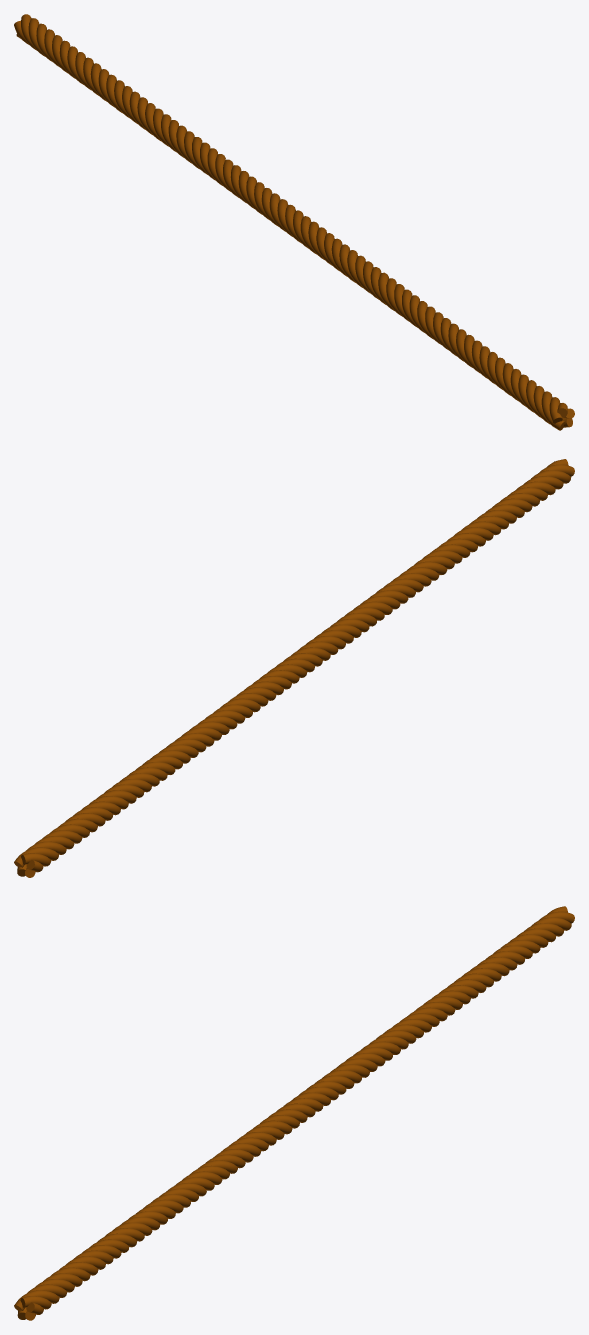
The model's file is Rope_01.fbx.
The picture shows the model from 3 angles, top to bottom: view 1: azimuth 30°, elevation 25°; view 2: azimuth 150°, elevation 25°; view 3: azimuth 330°, elevation 25°; orthographic projection.
Visible parts, largest first — view 1: Reep_05_1; view 2: Reep_05_1; view 3: Reep_05_1.
Boxes of the visible parts, left/top/right/bottom form: Reep_05_1: left=14, top=14, right=574, bottom=430; Reep_05_1: left=14, top=459, right=574, bottom=877; Reep_05_1: left=14, top=906, right=574, bottom=1320.
Size of the model in its own units: 10.1 by 10.89 by 415.
